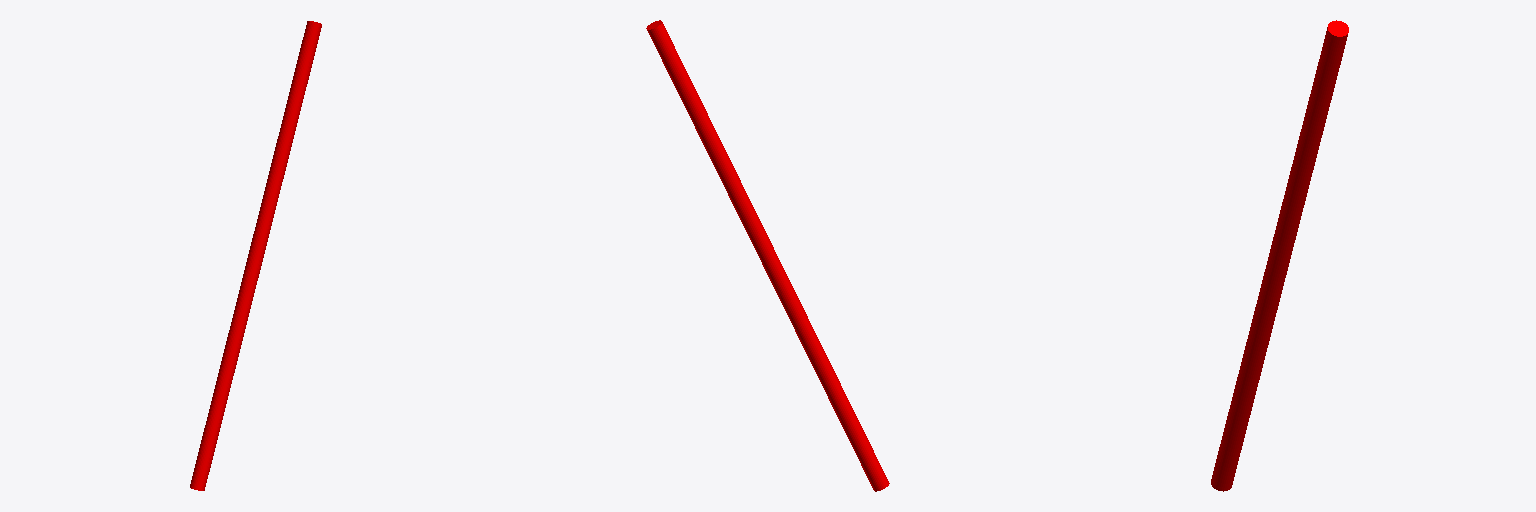
The robot description file, URDF, robot "tree_78.urdf":
<?xml version='1.0' encoding='utf-8'?>
<robot name="tree_78.urdf">
  <link name="branch_0">
    <inertial>
      <origin xyz="0.0 0.0 0.0" rpy="0.0 -0.0 0.0" />
      <mass value="1.0" />
      <inertia ixx="1.0" ixy="0.0" ixz="0.0" iyy="1.0" iyz="0.0" izz="1.0" />
    </inertial>
    <visual name="branch_0_visual">
      <geometry>
        <cylinder radius="0.03628349848938584" length="2.2785743539090015" />
      </geometry>
      <material name="semantic_material" />
      <origin xyz="0.43333658059283153 0.19425369755834226 1.0355965336355566" rpy="-5.065447067466056e-17 0.4299504943172718 0.42141799310279315" />
    </visual>
    <collision name="branch_0_collision">
      <geometry>
        <cylinder radius="0.03628349848938584" length="2.2785743539090015" />
      </geometry>
      <origin xyz="0.43333658059283153 0.19425369755834226 1.0355965336355566" rpy="-5.065447067466056e-17 0.4299504943172718 0.42141799310279315" />
    </collision>
  </link>
  <material name="semantic_material">
    <color rgba="1. 0. 0. 1." />
  </material>
</robot>

--- Render facts (derived) ---
3 views of the same robot in one strip: view 1: azimuth 30°, elevation 25°; view 2: azimuth 150°, elevation 25°; view 3: azimuth 270°, elevation 25° (orthographic).
Robot: tree_78.urdf — 1 links, 0 joints (none); root link branch_0; default pose: all joints at 0.
Visible links, largest first — view 1: branch_0; view 2: branch_0; view 3: branch_0.
Link boxes in pixels (bbox=[...]): branch_0: bbox=[190, 21, 321, 490]; branch_0: bbox=[646, 20, 889, 491]; branch_0: bbox=[1211, 20, 1348, 491].
Size in the robot's own frame: 0.9336 by 0.46 by 2.1 metres.
Geometry: primitives only (box / cylinder / sphere), no mesh files.